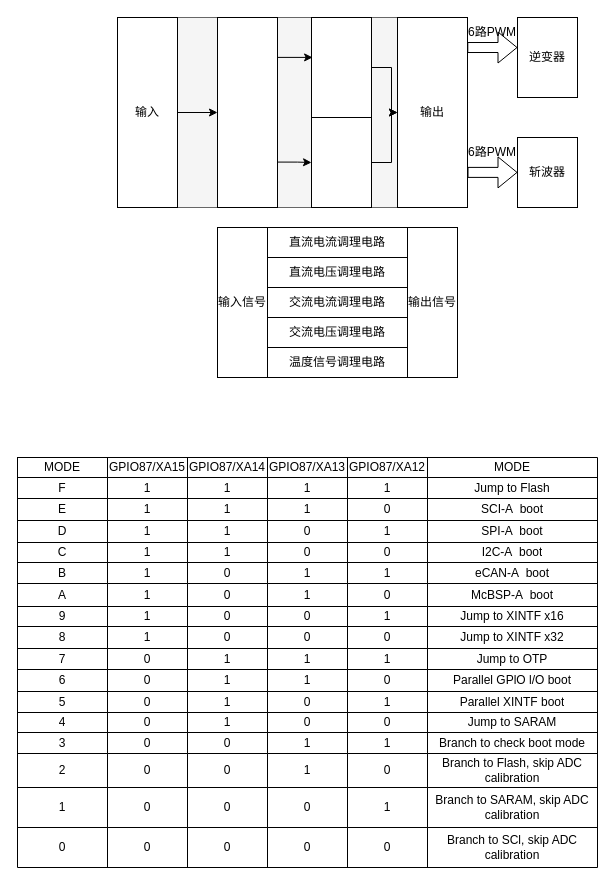
The diagram is 615 pixels wide and 885 high, and some of its shapes have lost their labels. Each missing label, with the centre of its shape:
斩波器光电隔离: the point at 341,162
电平转换: the point at 247,112
逆变器光电隔离: the point at 341,67
